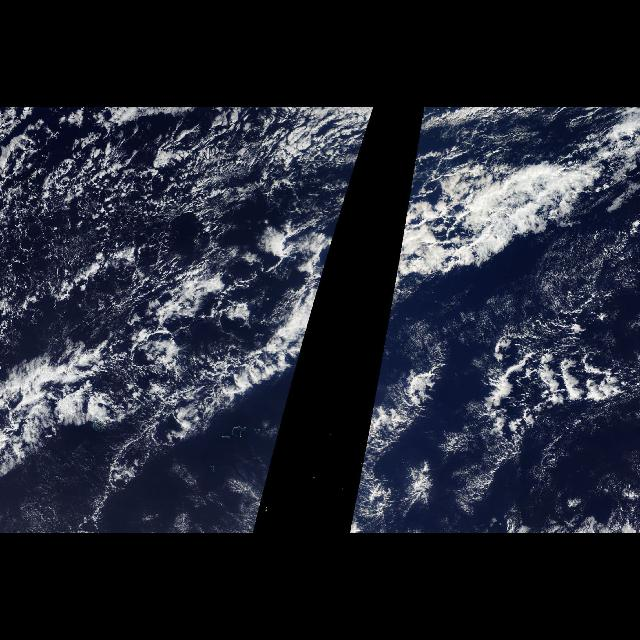Fish: (23, 136, 365, 524), (351, 113, 635, 525)
Gravel: (11, 115, 253, 488)
Sugar: (426, 245, 634, 379)
